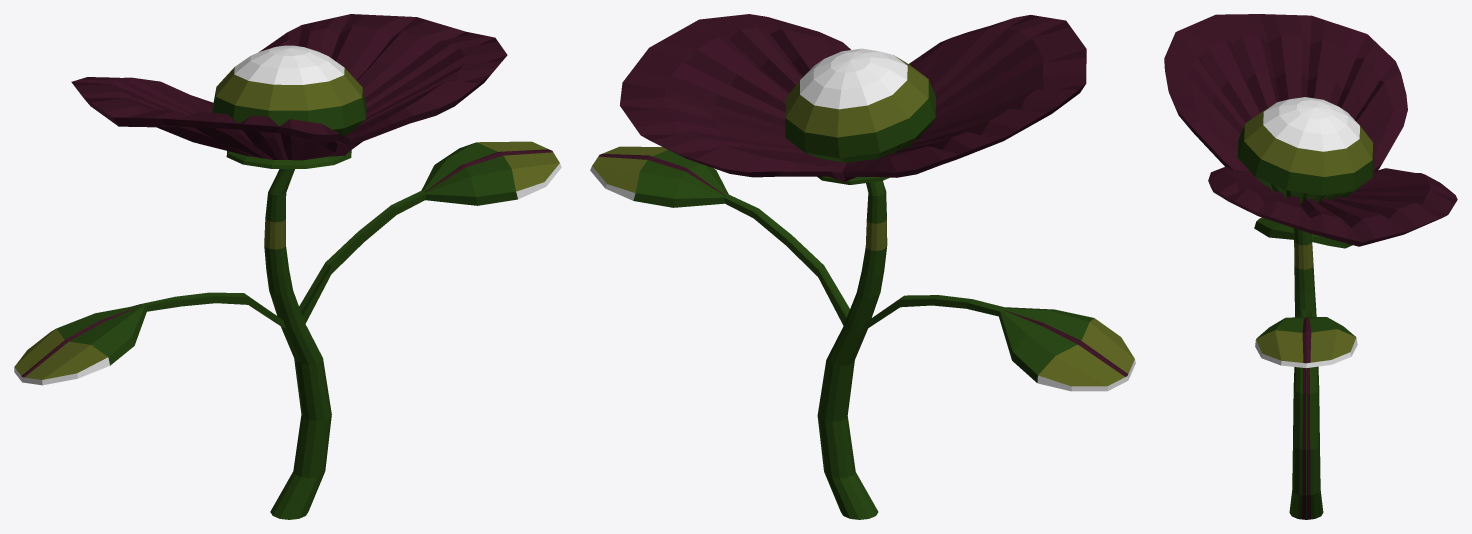
File: RibbonMushroom.fbx
3 views of the same model, side by side, from view 1: azimuth 30°, elevation 25°; view 2: azimuth 150°, elevation 25°; view 3: azimuth 270°, elevation 25° (orthographic). The views are drawn at different scales.
Parts seen in each view (by area): view 1: Ribbon; view 2: Ribbon; view 3: Ribbon.
Boxes of the visible parts, <box> form: Ribbon: <box>14,14,561,519</box>; Ribbon: <box>590,14,1135,519</box>; Ribbon: <box>1164,14,1457,519</box>.
Bounding box in the file's own units: 735 × 625 × 394.
